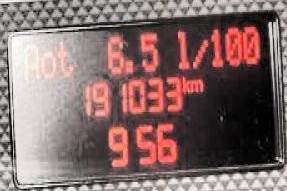-: (124, 55, 134, 73)
0: (224, 23, 241, 67), (126, 76, 145, 115), (241, 23, 259, 63)
1: (209, 25, 223, 70), (83, 82, 90, 117), (119, 80, 125, 113)
3: (164, 73, 180, 110), (145, 75, 161, 111)
5: (133, 121, 154, 165), (139, 30, 158, 71)
6: (155, 120, 175, 163), (105, 33, 122, 75)
9: (104, 122, 126, 168), (90, 80, 107, 115)
X: (55, 38, 74, 78), (175, 22, 189, 73), (20, 41, 37, 80), (191, 35, 206, 68), (40, 48, 55, 78), (189, 76, 203, 95), (181, 73, 189, 93)
